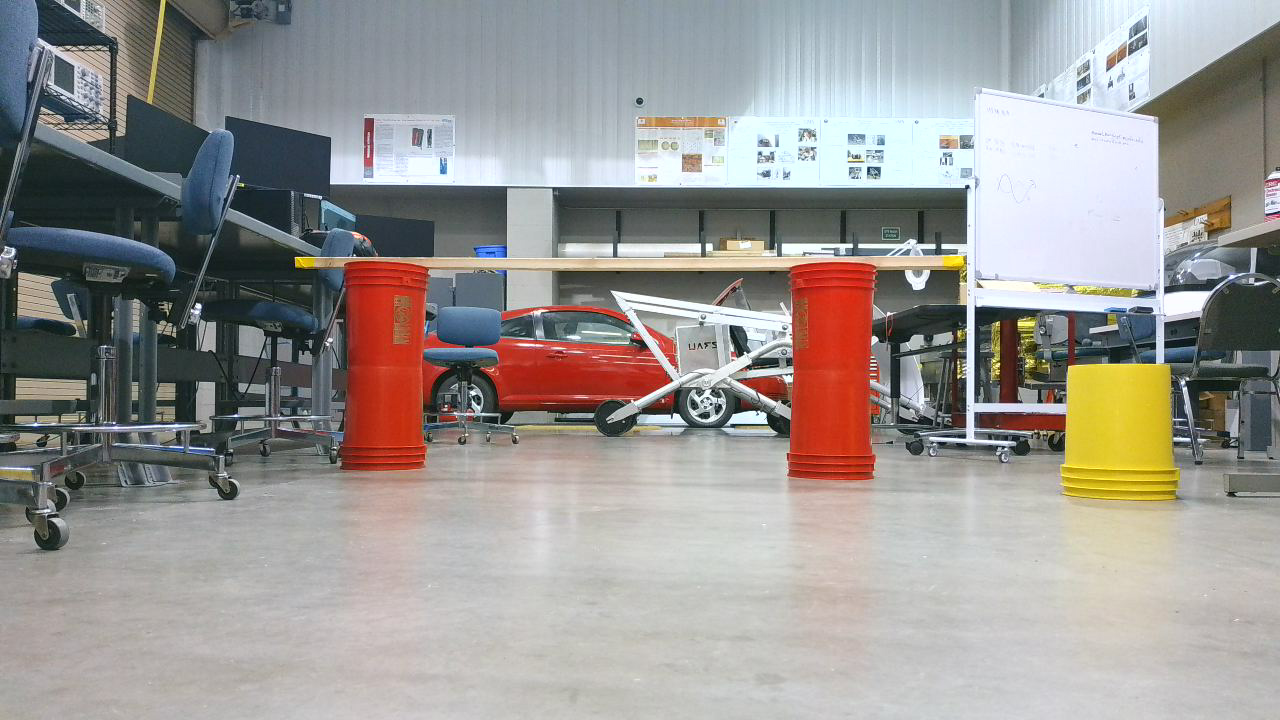red_bucket_arch: (335, 255, 893, 490)
yellow_bucket: (1059, 363, 1191, 510)
